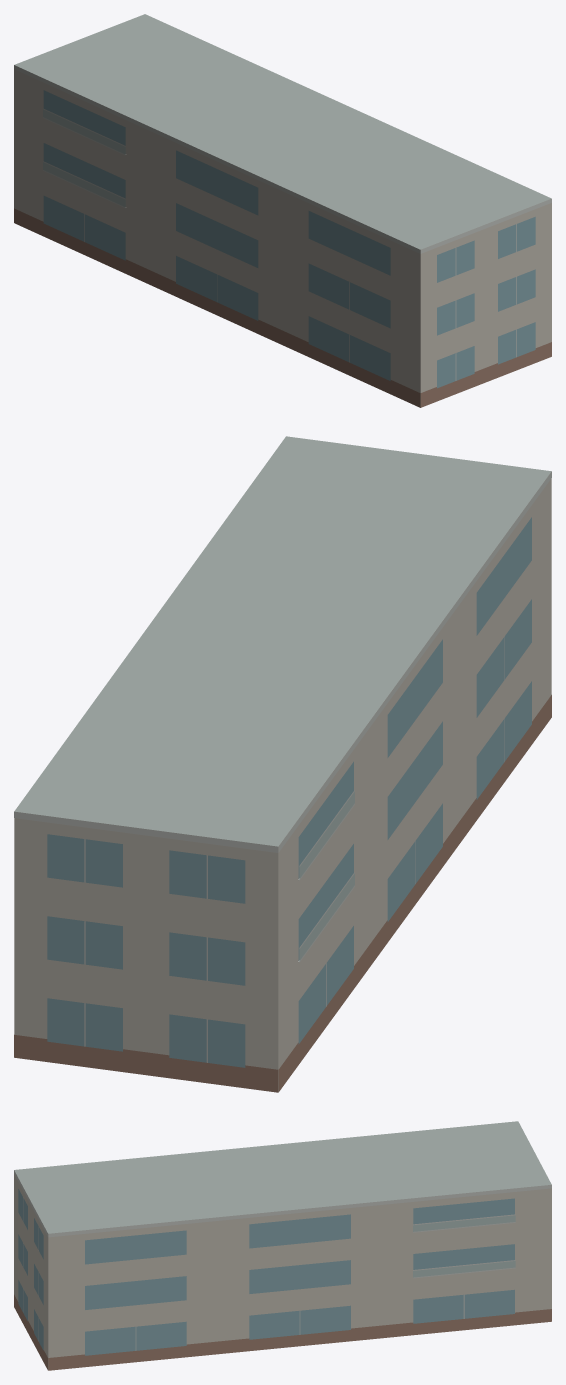
File: survey-upis-32624350.glb
3 renders of one model, top to bottom at view 1: azimuth 30°, elevation 25°; view 2: azimuth 150°, elevation 25°; view 3: azimuth 270°, elevation 25°, orthographic. The views are drawn at different scales.
Visible parts, largest first — view 1: survey-upis-32624350.tmp; view 2: survey-upis-32624350.tmp; view 3: survey-upis-32624350.tmp.
Boxes of the visible parts, left/top/right/bottom form: survey-upis-32624350.tmp: left=14, top=14, right=551, bottom=407; survey-upis-32624350.tmp: left=14, top=436, right=551, bottom=1092; survey-upis-32624350.tmp: left=14, top=1121, right=551, bottom=1370.
Size of the model in its own units: 16.15 by 9.15 by 32.58.
